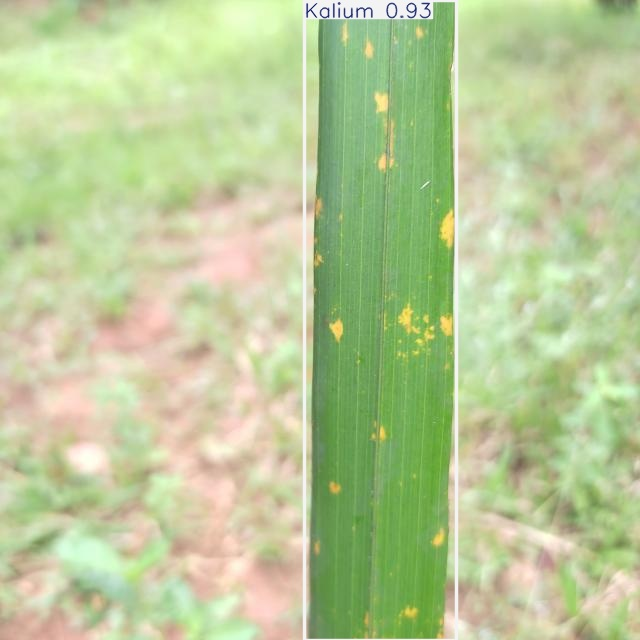Kalium: (305, 0, 456, 640)
